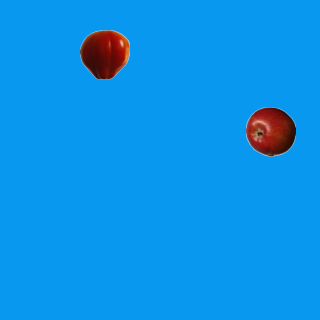Apple Braeburn: (245, 106, 295, 156)
Tomato 1: (79, 29, 129, 79)
